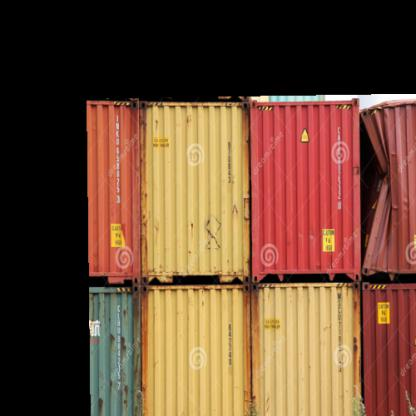Damage: (340, 121, 403, 272)
